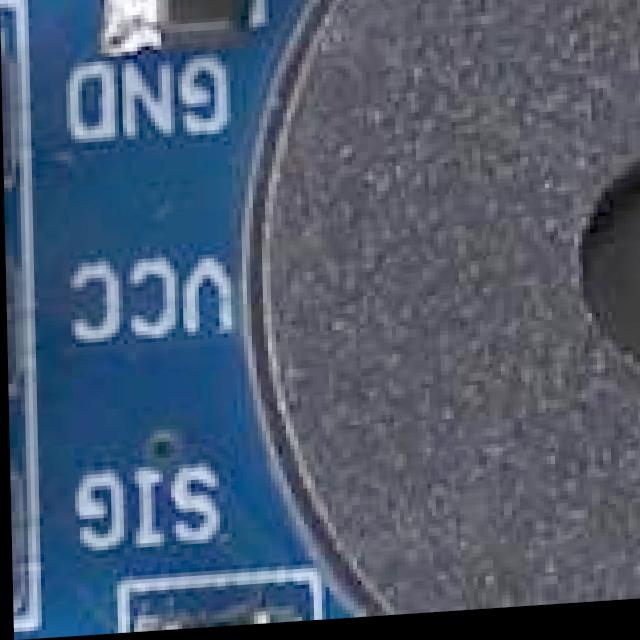buzzer: (264, 0, 640, 626)
connector: (0, 0, 35, 636)
resistor: (134, 585, 295, 634)
transistor: (116, 0, 297, 50)
